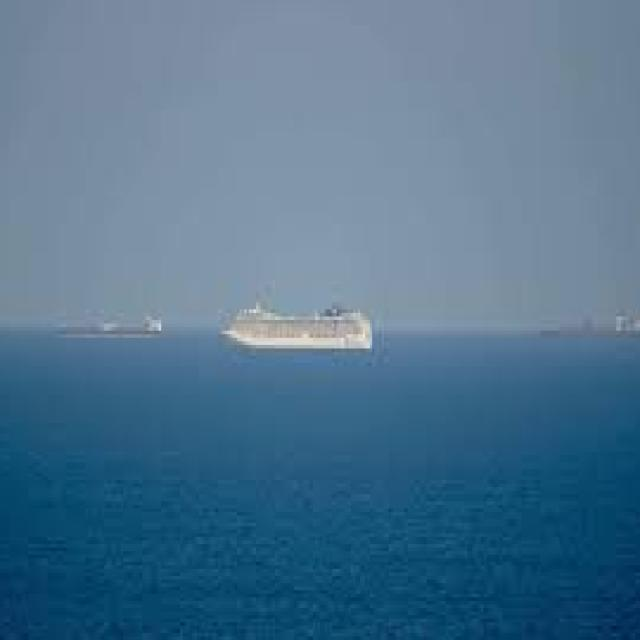passenger ship: (232, 277, 388, 378)
